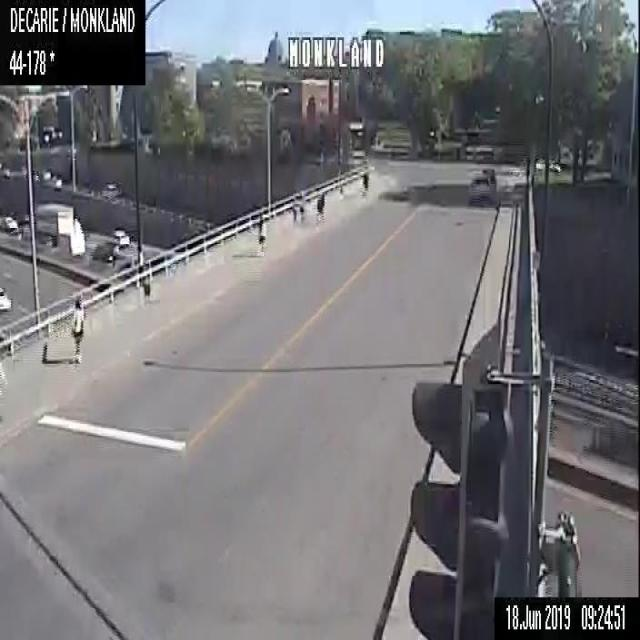pedestrian: (66, 295, 84, 365), (257, 217, 265, 255), (316, 192, 324, 224), (362, 169, 368, 200), (298, 191, 303, 221), (292, 193, 296, 223)
vehicle: (34, 201, 76, 238), (468, 172, 497, 208), (92, 241, 119, 260), (0, 284, 13, 315), (110, 228, 129, 246), (0, 212, 17, 231), (100, 182, 117, 198), (0, 161, 10, 179), (21, 168, 27, 179)
